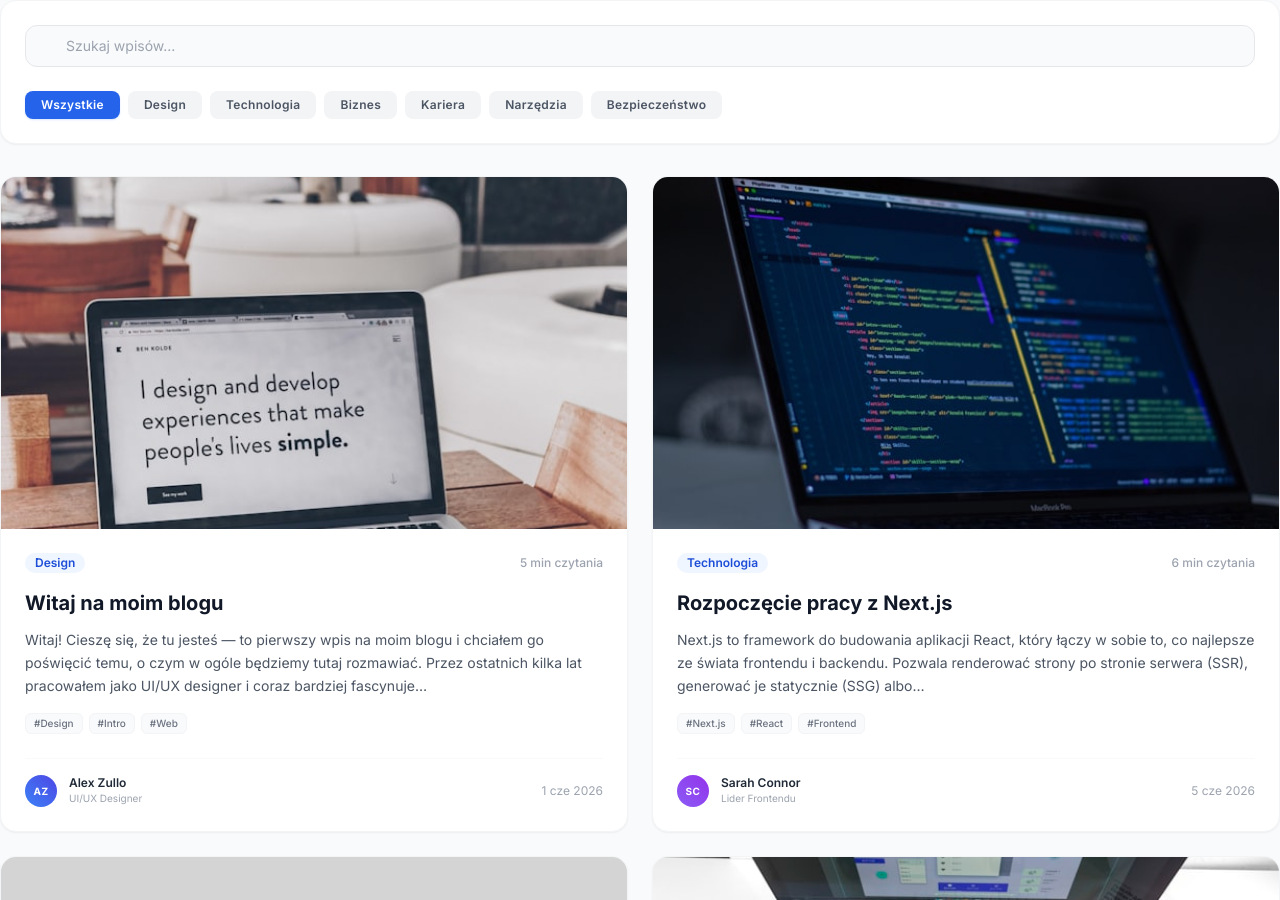
Test: PostList Component › shows no posts screen when search query matches nothing
// Type a gibberish query
In the field with placeholder "Szukaj wpisów...": (640, 46) [25,25,1255,67], type "xyzqwert123"
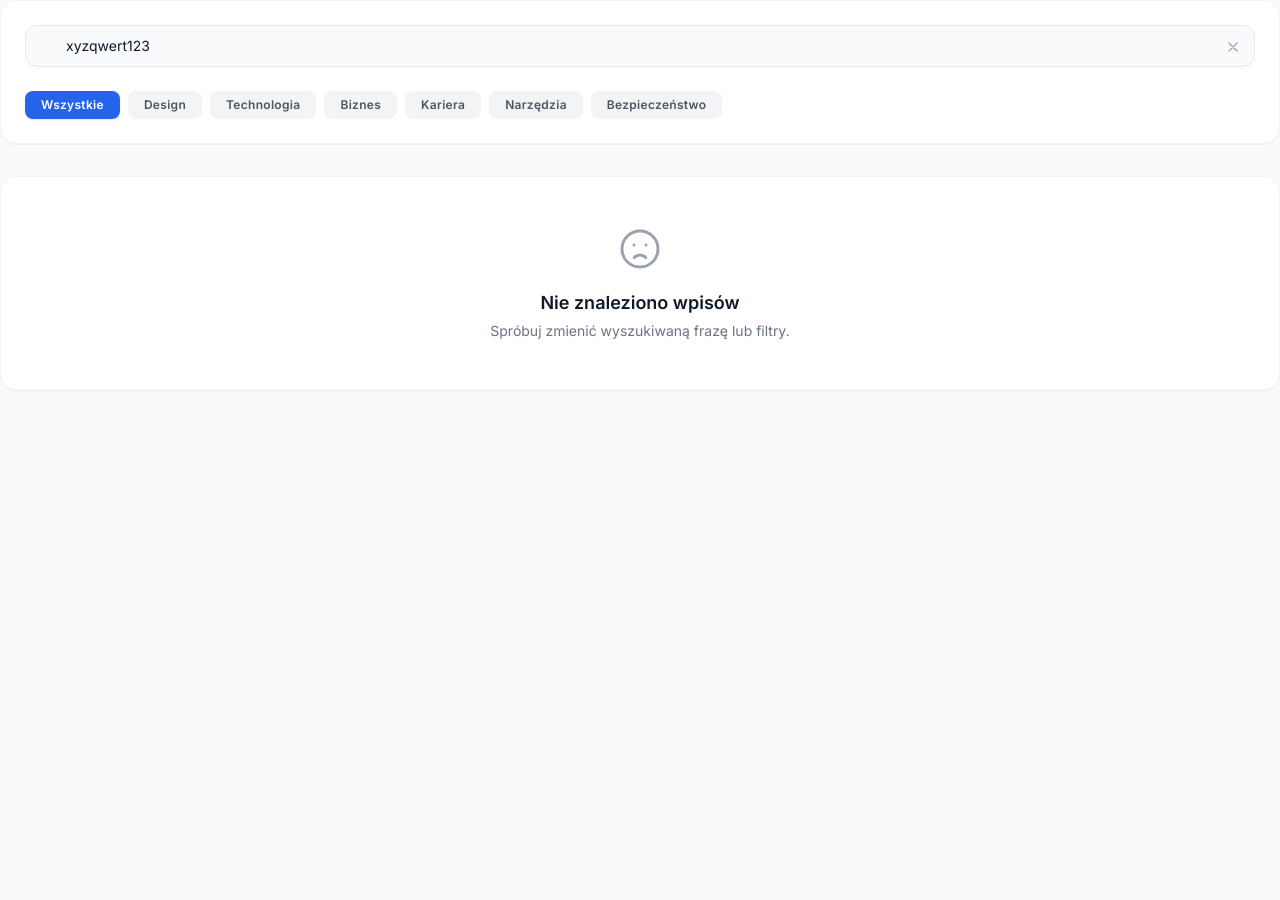
Check: the heading "Nie znaleziono wpisów" is shown, box [540,292,740,313]
